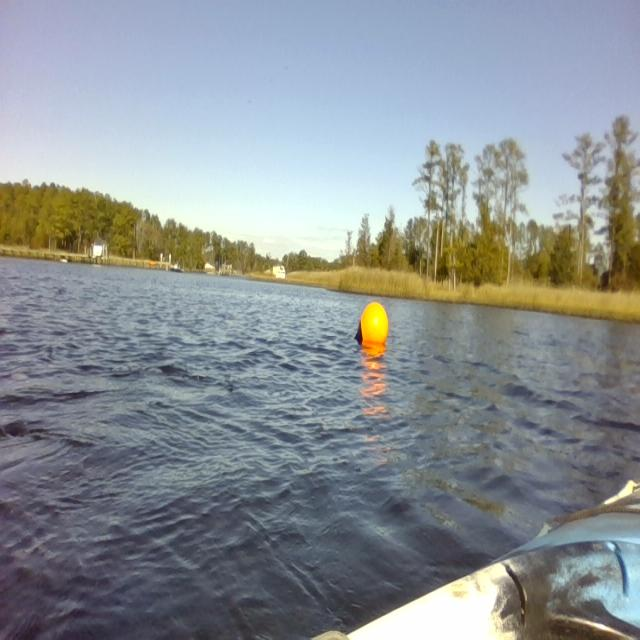Buoy: (348, 296, 397, 358)
